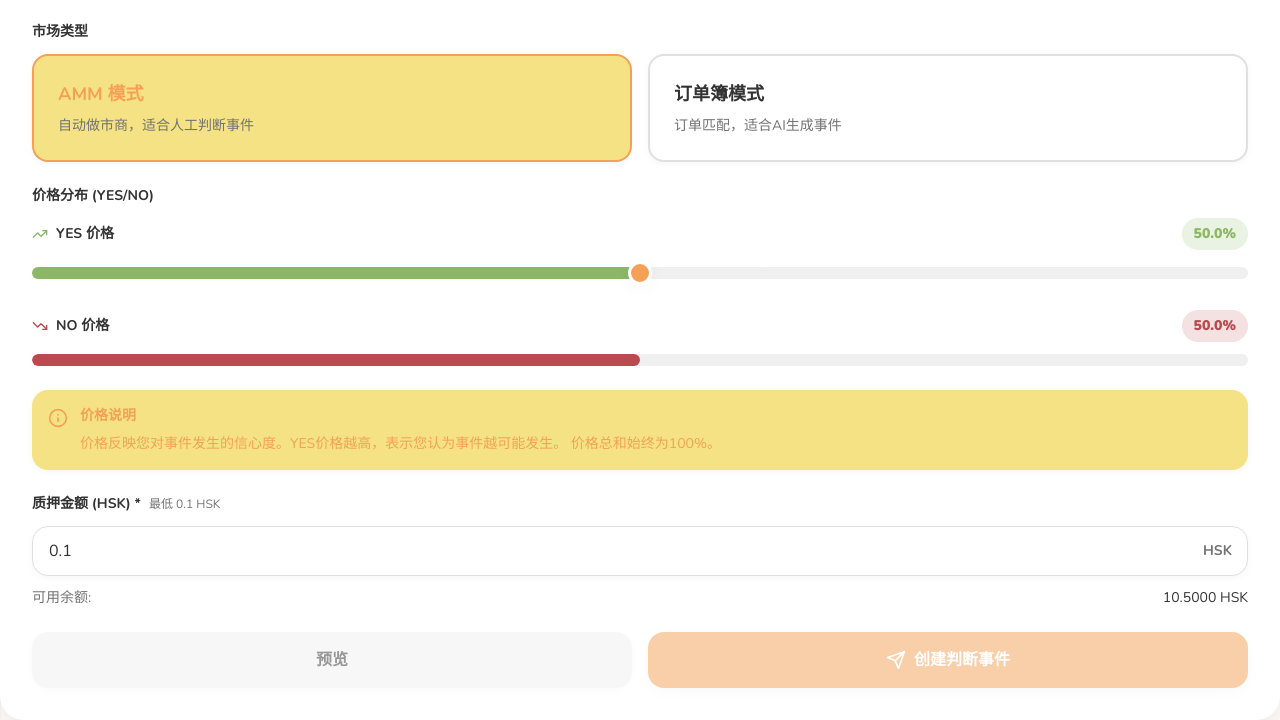
Test: JudgmentSubmission › validates minimum stake amount
(page scrolled)
In the number field showing "0.1": [640, 551] box [32, 526, 1248, 576], type "0.05"
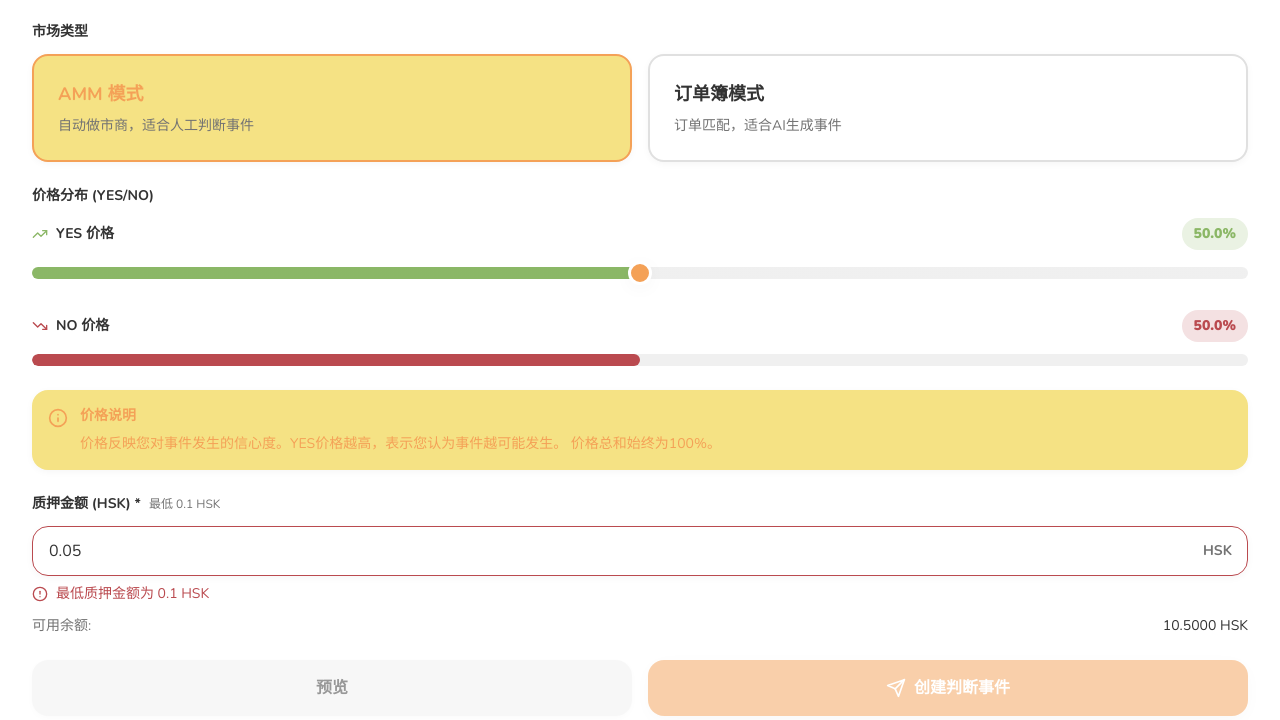
Expected: the text "最低质押金额为 0.1 HSK" is shown, [32, 584, 209, 603]
